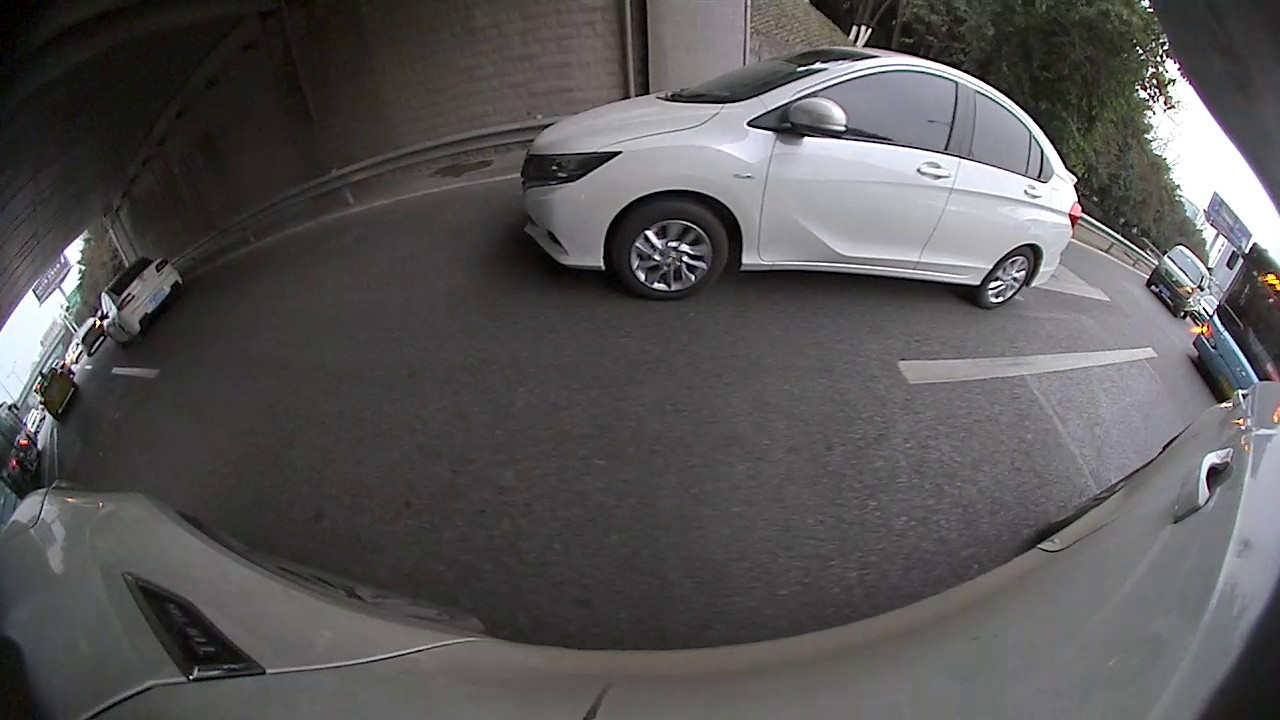bus: (1191, 239, 1279, 399)
car: (515, 43, 1084, 309), (95, 252, 187, 348), (1148, 242, 1210, 320), (29, 366, 82, 425)
front: (608, 196, 729, 299)
rear: (977, 243, 1039, 311)
